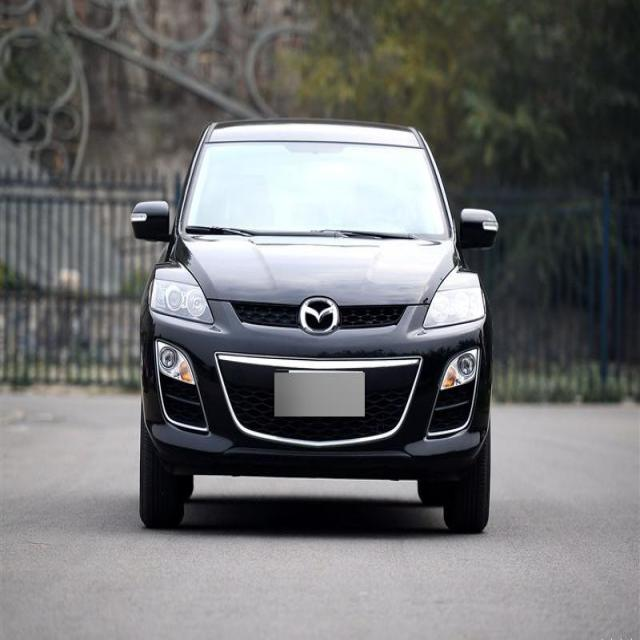front_bumper: (138, 294, 494, 478)
front_glass: (182, 138, 454, 238)
front_left_side_light: (420, 264, 490, 332)
front_left_side_mirror: (455, 205, 500, 253)
front_right_side_light: (148, 260, 218, 327)
front_right_side_mirror: (130, 196, 173, 248)
